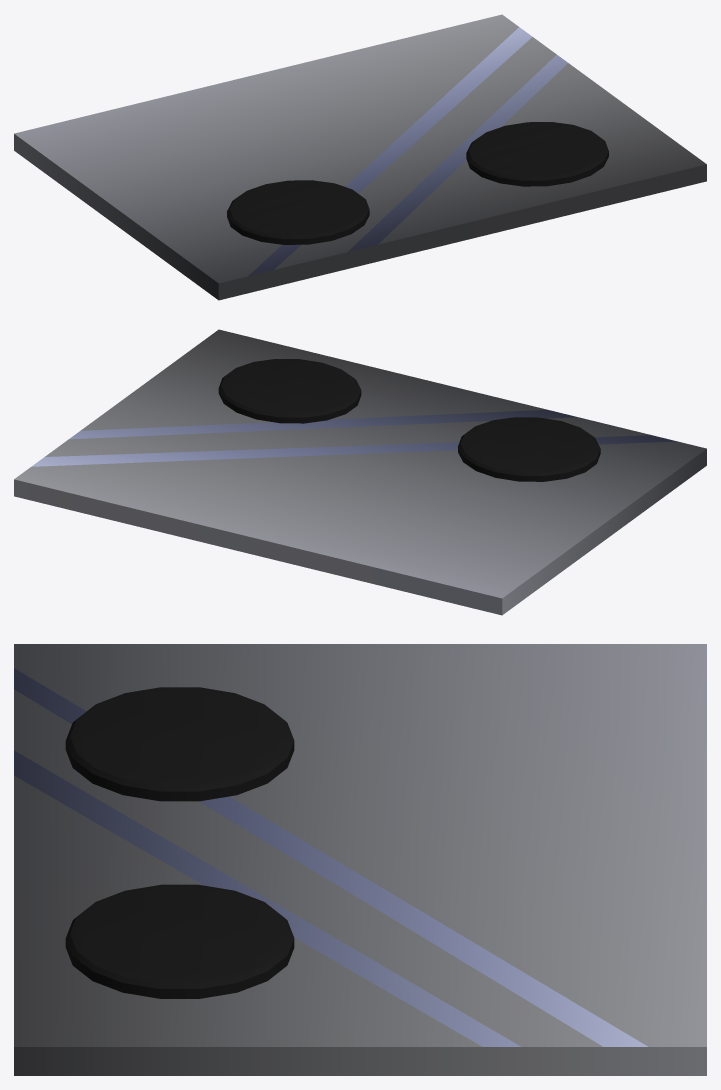
File: Cooker.fbx
The picture shows the model from 3 angles, top to bottom: view 1: azimuth 30°, elevation 25°; view 2: azimuth 150°, elevation 25°; view 3: azimuth 270°, elevation 25°; orthographic projection. The views are drawn at different scales.
Visible parts, largest first — view 1: Cooker; view 2: Cooker; view 3: Cooker.
Part boxes in pixels (x1,y1,x2,y2): Cooker: (14, 14, 706, 300); Cooker: (14, 329, 706, 615); Cooker: (14, 644, 706, 1075).
Bounding box in the file's own units: 1.14 × 0.0586 × 0.8292.
